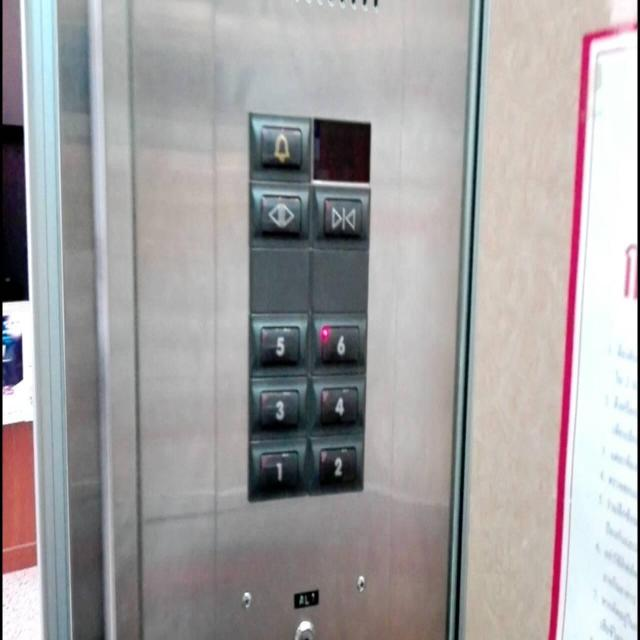1: (258, 447, 300, 493)
2: (316, 444, 358, 490)
3: (258, 387, 300, 432)
4: (317, 383, 359, 429)
5: (258, 323, 300, 369)
6: (318, 322, 361, 367)
alarm: (259, 123, 303, 173)
close: (320, 195, 364, 242)
open: (259, 192, 303, 240)
